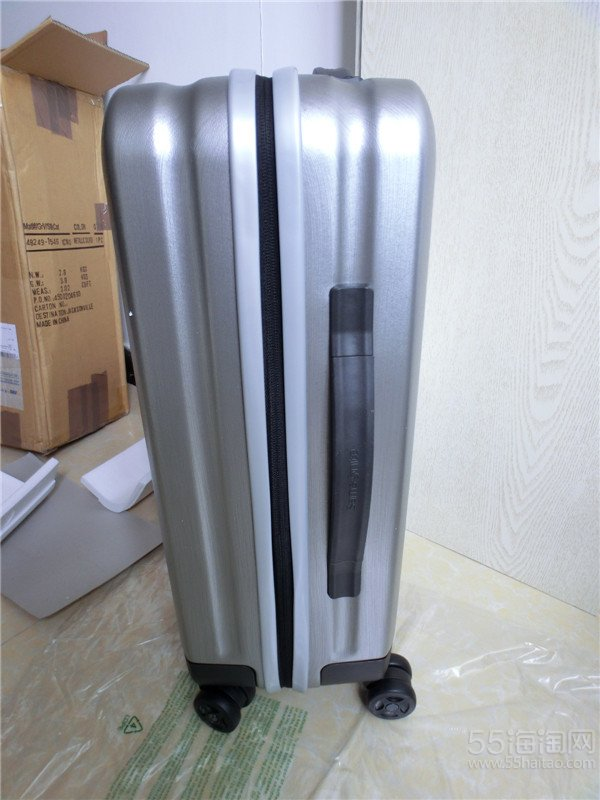suitcase: (103, 69, 442, 733)
